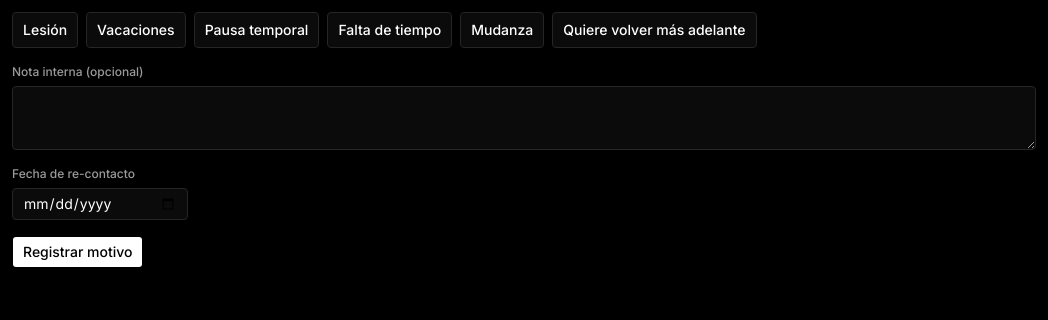
Test: InactivityReasonForm › ignores field errors for fields the form does not have
Click the button "Lesión". click: click(45, 30)
box: [12,12,78,48]
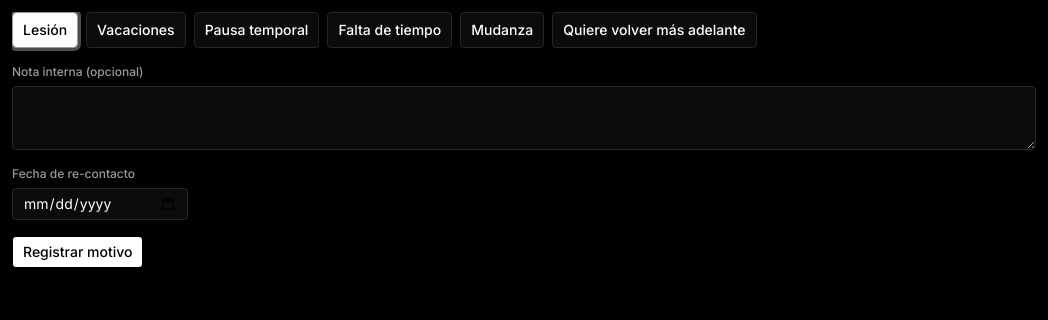
Click the button "Registrar motivo". click: click(78, 252)
box: [12,236,144,268]
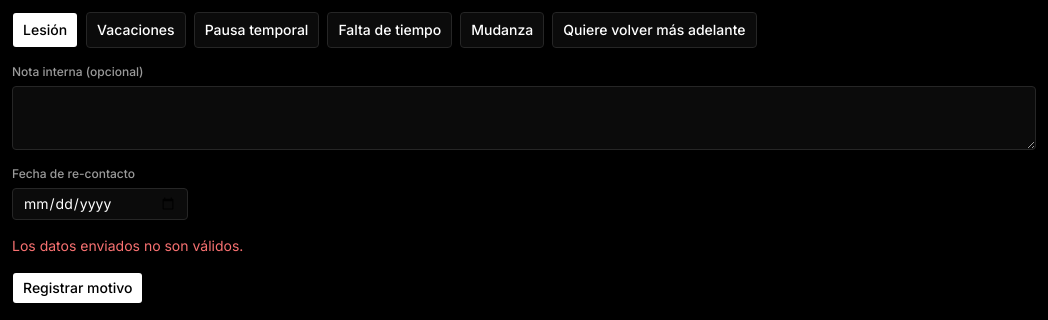
Expected: the message reads "Los datos enviados no son válidos.", [12,237,243,254]
